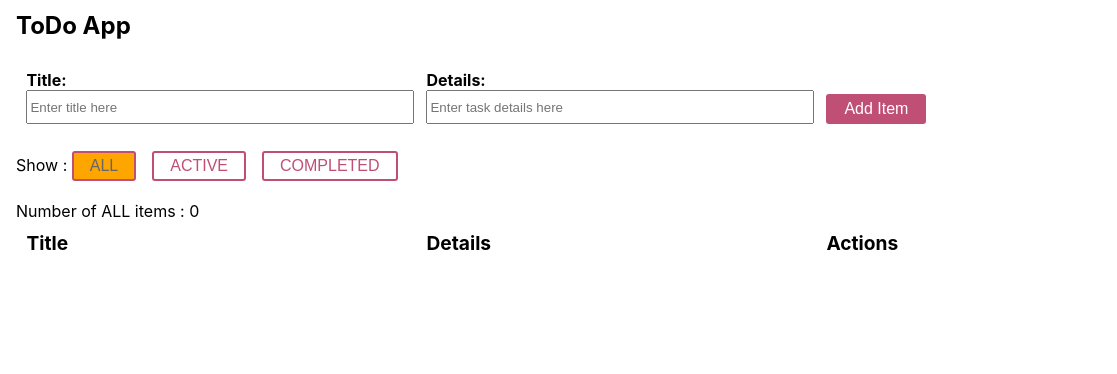
Test case: App › check Add Item function
Expected: the text "Number of ALL items : 0" is shown, [16,201,199,221]
In the field with placeholder "Enter title here": (220, 107) [26,90,414,124], type "title"
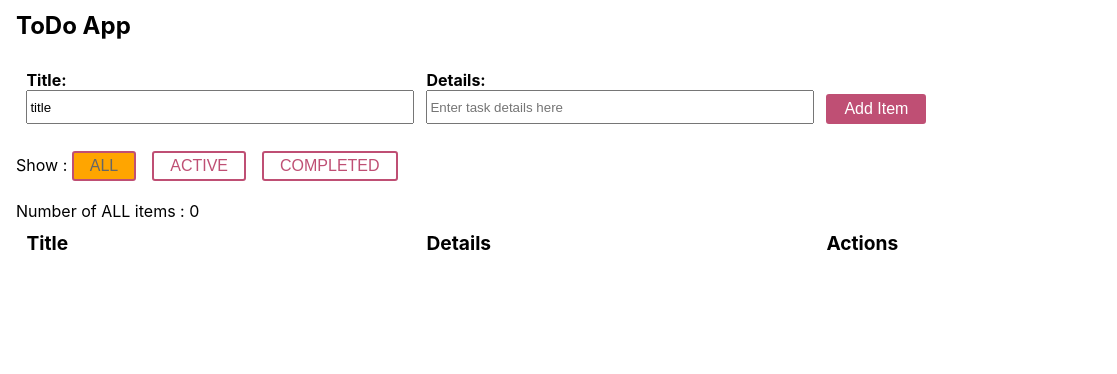
In the field with placeholder "Enter task details here": (620, 107) [426,90,814,124], type "details"
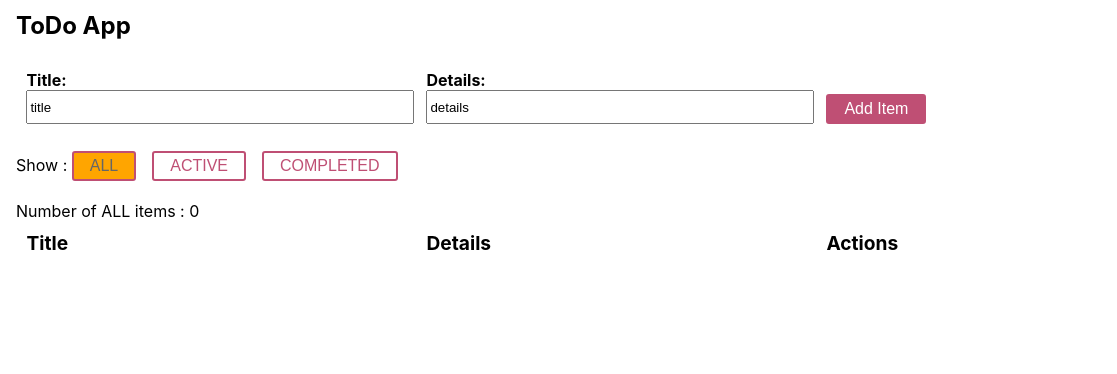
Click the button "Add Item": (876, 109) [826,94,926,124]
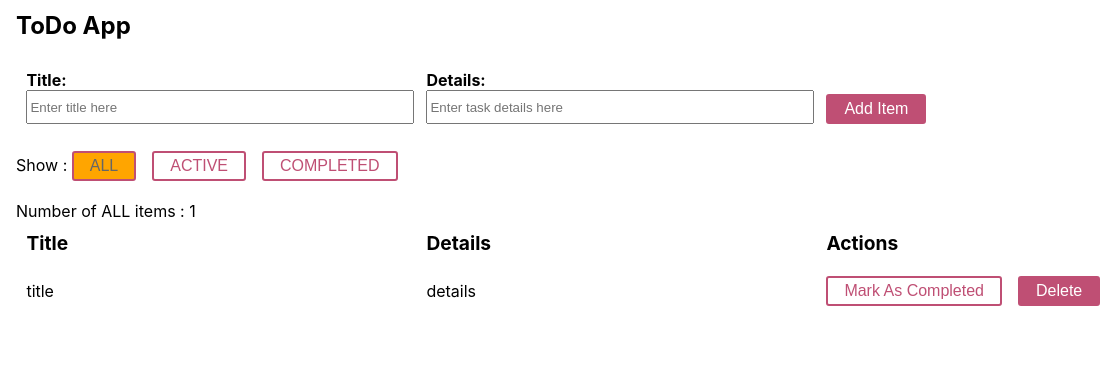
Result: the text "Number of ALL items : 1" is shown at [16,201,196,221]
In the field with placeholder "Enter title here": (220, 107) [26,90,414,124], type "title1"
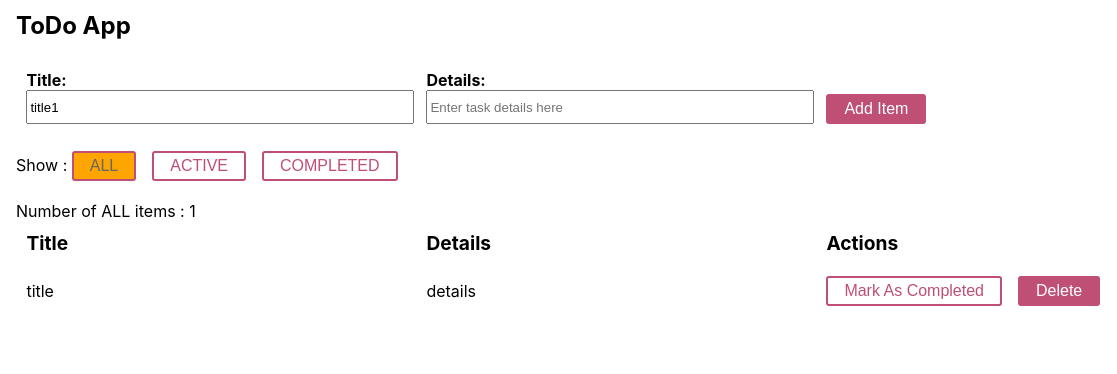
In the field with placeholder "Enter task details here": (620, 107) [426,90,814,124], type "details2"
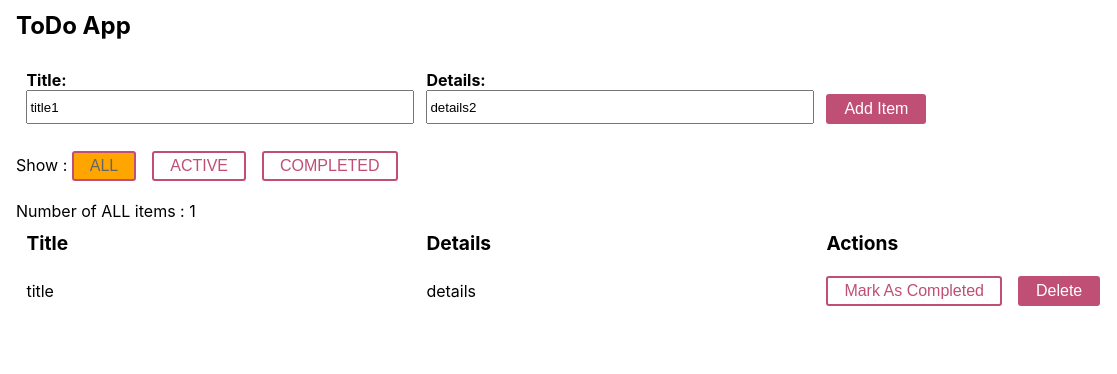
Click the button "Add Item": (876, 109) [826,94,926,124]
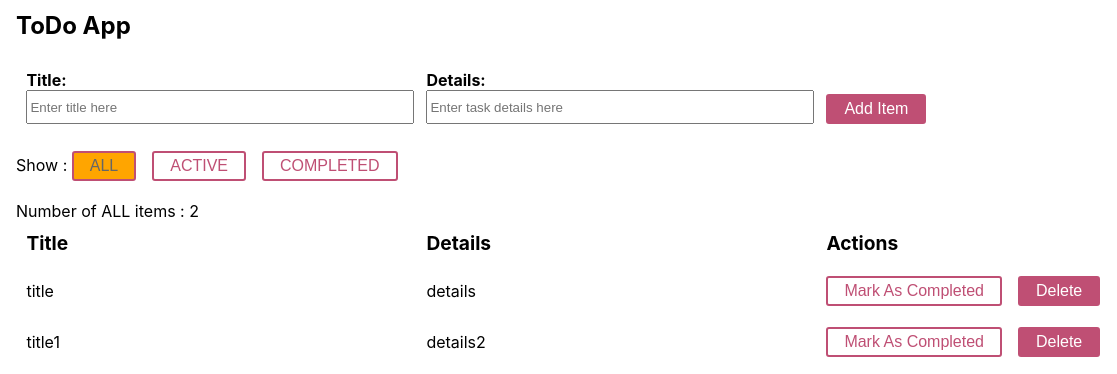
Result: the text "Number of ALL items : 2" is shown at [16,201,199,221]
